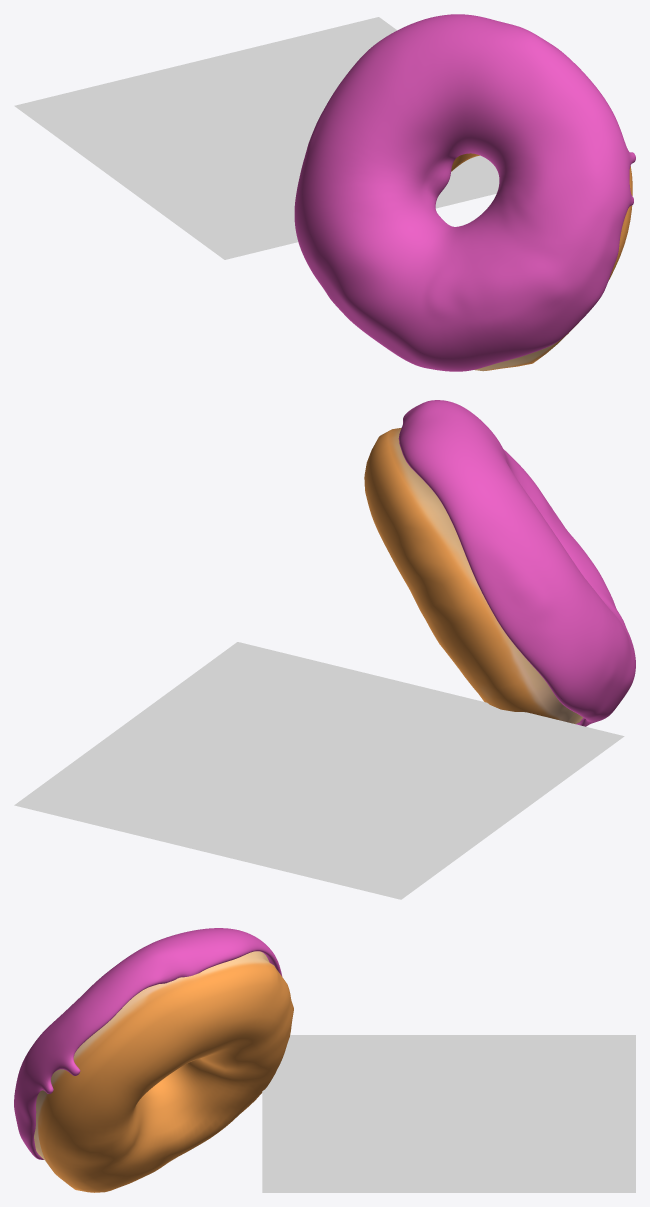
Rendered from Donut.glb.
3 renders of one model, top to bottom at view 1: azimuth 30°, elevation 25°; view 2: azimuth 150°, elevation 25°; view 3: azimuth 270°, elevation 25°, orthographic. The views are drawn at different scales.
Visible parts, largest first — view 1: Icing, Plane, Donut; view 2: Plane, Icing, Donut; view 3: Plane, Donut, Icing.
Boxes of the visible parts, x1=… form: Icing: x1=294, y1=14, x2=635, y2=371; Plane: x1=14, y1=17, x2=499, y2=259; Donut: x1=451, y1=153, x2=632, y2=371; Plane: x1=14, y1=642, x2=624, y2=899; Icing: x1=398, y1=400, x2=635, y2=726; Donut: x1=364, y1=428, x2=582, y2=723; Plane: x1=262, y1=1035, x2=635, y2=1192; Donut: x1=34, y1=951, x2=293, y2=1192; Icing: x1=14, y1=928, x2=282, y2=1159.
Bounding box in the file's own units: 2 × 1.58 × 3.33.
3 materials, 1 textured.
